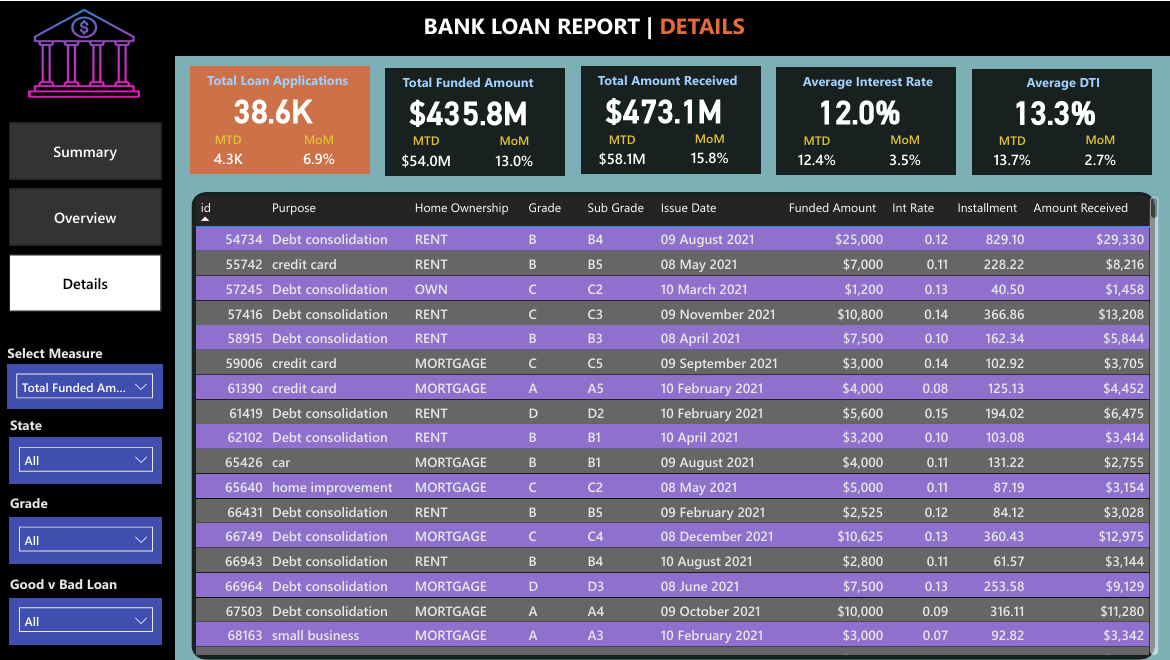

The dashboard page shown, as its layout file describes it:
{"tool":"powerbi","page":{"name":"Details","canvas":[1280,720],"ordinal":2},"visuals":[{"type":"shape","box":[0,0,1280.7,60],"z":0},{"type":"shape","box":[636.3,71,195.7,116.9],"z":0,"group":"g3"},{"type":"shape","box":[210.4,71.5,195.7,117.1],"z":0,"group":"g1"},{"type":"shape","box":[849.2,72,195.7,117.1],"z":0,"group":"g4"},{"type":"shape","box":[423.4,72.6,195.7,117],"z":0,"group":"g2"},{"type":"shape","box":[1062.2,74.5,195.7,115.6],"z":0,"group":"g5"},{"type":"card","fields":{"Values":["bank_loan_data.Total Amount Received"]},"box":[650.6,92,151.4,49.9],"z":1000,"group":"g3"},{"type":"card","fields":{"Values":["bank_loan_data.Total Loan Applications"]},"box":[224.7,92.5,151.4,50],"z":1000,"group":"g1"},{"type":"card","fields":{"Values":["bank_loan_data.Avg Interest Rate"]},"box":[863.5,93,151.4,50],"z":1000,"group":"g4"},{"type":"card","fields":{"Values":["bank_loan_data.Total Funded Amount"]},"box":[437.7,93.6,151.4,49.9],"z":1000,"group":"g2"},{"type":"card","fields":{"Values":["bank_loan_data.Avg DTI"]},"box":[1076.5,93.8,151.4,49.3],"z":1000,"group":"g5"},{"type":"shape","box":[210.9,208.1,1050.3,510],"z":1000},{"type":"shape","box":[0,53.6,192.5,667],"z":2000},{"type":"textbox","box":[649.2,71,172.9,35.6],"z":2000,"group":"g3"},{"type":"textbox","box":[223.3,71.5,172.9,35.7],"z":2000,"group":"g1"},{"type":"textbox","box":[862.1,72,172.9,35.7],"z":2000,"group":"g4"},{"type":"textbox","box":[436.3,72.6,172.9,35.7],"z":2000,"group":"g2"},{"type":"textbox","box":[1075.1,73.1,172.9,35.2],"z":2000,"group":"g5"},{"type":"textbox","box":[459.5,4.2,453.9,47.5],"z":3000},{"type":"card","title":"MTD","fields":{"Values":["bank_loan_data.MTD Loan Applications"]},"box":[221.8,141.1,60,42.9],"z":3000,"group":"g1"},{"type":"card","title":"MTD","fields":{"Values":["bank_loan_data.MTD Amount Received"]},"box":[647.7,141.2,67.1,46.8],"z":3000,"group":"g3"},{"type":"card","title":"MTD","fields":{"Values":["bank_loan_data.MTD Avg Interest Rate"]},"box":[860.6,142.2,65.7,46.8],"z":3000,"group":"g4"},{"type":"card","title":"MTD","fields":{"Values":["bank_loan_data.MTD Avg DTI"]},"box":[1073.6,142.4,65.7,46.2],"z":3000,"group":"g5"},{"type":"card","title":"MTD","fields":{"Values":["bank_loan_data.MTD Funded Amount"]},"box":[434.8,142.8,65.7,46.8],"z":3000,"group":"g2"},{"type":"group","id":"g1","title":"Group 1","box":[210.4,71.5,195.7,117.1],"z":4000},{"type":"card","title":"MoM","fields":{"Values":["bank_loan_data.MoM Amount Received"]},"box":[746.3,140.5,60,42.8],"z":4000,"group":"g3"},{"type":"card","title":"MoM","fields":{"Values":["bank_loan_data.MoM Avg Interest Rate"]},"box":[959.2,140.7,60,42.4],"z":4000,"group":"g4"},{"type":"card","title":"MoM","fields":{"Values":["bank_loan_data.MoM Avg DTI"]},"box":[1172.2,140.9,60,41.9],"z":4000,"group":"g5"},{"type":"card","title":"MoM","fields":{"Values":["bank_loan_data.MoM Loan Apllication"]},"box":[320.4,141.1,60,42.9],"z":4000,"group":"g1"},{"type":"card","title":"MoM","fields":{"Values":["bank_loan_data.MoM Funded Amount"]},"box":[533.4,141.3,60,42.4],"z":4000,"group":"g2"},{"type":"group","id":"g2","title":"Group 1","box":[423.4,72.6,195.7,117],"z":5000},{"type":"group","id":"g3","title":"Group 1","box":[636.3,71,195.7,117],"z":6000},{"type":"group","id":"g4","title":"Group 1","box":[849.2,72,195.7,117.1],"z":7000},{"type":"group","id":"g5","title":"Group 1","box":[1062.2,73.1,195.7,117.1],"z":8000},{"type":"slicer","fields":{"Values":["bank_loan_data.address_state"]},"box":[12.6,475.9,165.7,51.4],"z":9000},{"type":"textbox","box":[8.3,447.4,58.6,38.6],"z":10000},{"type":"slicer","fields":{"Values":["bank_loan_data.grade"]},"box":[12.6,563.1,165.7,51.4],"z":11000},{"type":"textbox","box":[8.3,531.6,70,38.6],"z":12000},{"type":"slicer","fields":{"Values":["bank_loan_data.Good v Bad Loan"]},"box":[12.6,651.2,165.7,51.4],"z":13000},{"type":"textbox","box":[8.1,620.4,159.2,37.7],"z":14000},{"type":"slicer","fields":{"Values":["Select Measure.Select Measure"]},"box":[9.7,396.1,168.6,48.6],"z":15000},{"type":"textbox","box":[5.4,367.5,122.9,38.6],"z":16000},{"type":"tableEx","fields":{"Values":["bank_loan_data.id","bank_loan_data.purpose","bank_loan_data.home_ownership","bank_loan_data.grade","bank_loan_data.sub_grade","bank_loan_data.issue_date","bank_loan_data.Total Funded Amount","Sum(bank_loan_data.int_rate)","Sum(bank_loan_data.installment)","bank_loan_data.Total Amount Received"]},"box":[210.4,207.7,1060.3,510.2],"z":17000},{"type":"pageNavigator","box":[12.4,132,166.4,207.7],"z":18000},{"type":"image","box":[27.5,1.4,132,111.4],"z":18001}]}

Visuals, with their boxes in screenshot pixels (x1, y1, x2, y2), scaled from the page's 1280x720 canvas onto the 1170x660 screenshot:
shape: left=0, top=0, right=1169, bottom=55
shape: left=582, top=65, right=760, bottom=172
shape: left=192, top=66, right=371, bottom=173
shape: left=776, top=66, right=955, bottom=173
shape: left=387, top=67, right=566, bottom=174
shape: left=971, top=68, right=1150, bottom=174
card - bank_loan_data.Total Amount Received: left=595, top=84, right=733, bottom=130
card - bank_loan_data.Total Loan Applications: left=205, top=85, right=344, bottom=131
card - bank_loan_data.Avg Interest Rate: left=789, top=85, right=928, bottom=131
card - bank_loan_data.Total Funded Amount: left=400, top=86, right=538, bottom=132
card - bank_loan_data.Avg DTI: left=984, top=86, right=1122, bottom=131
shape: left=193, top=191, right=1153, bottom=658
shape: left=0, top=49, right=176, bottom=659
textbox: left=593, top=65, right=751, bottom=98
textbox: left=204, top=66, right=362, bottom=98
textbox: left=788, top=66, right=946, bottom=99
textbox: left=399, top=67, right=557, bottom=99
textbox: left=983, top=67, right=1141, bottom=99
textbox: left=420, top=4, right=835, bottom=47
"MTD" card: left=203, top=129, right=258, bottom=169
"MTD" card: left=592, top=129, right=653, bottom=172
"MTD" card: left=787, top=130, right=847, bottom=173
"MTD" card: left=981, top=131, right=1041, bottom=173
"MTD" card: left=397, top=131, right=457, bottom=174
"Group 1" group: left=192, top=66, right=371, bottom=173
"MoM" card: left=682, top=129, right=737, bottom=168
"MoM" card: left=877, top=129, right=932, bottom=168
"MoM" card: left=1071, top=129, right=1126, bottom=168
"MoM" card: left=293, top=129, right=348, bottom=169
"MoM" card: left=488, top=130, right=542, bottom=168
"Group 1" group: left=387, top=67, right=566, bottom=174
"Group 1" group: left=582, top=65, right=760, bottom=172
"Group 1" group: left=776, top=66, right=955, bottom=173
"Group 1" group: left=971, top=67, right=1150, bottom=174
slicer - bank_loan_data.address_state: left=12, top=436, right=163, bottom=483
textbox: left=8, top=410, right=61, bottom=446
slicer - bank_loan_data.grade: left=12, top=516, right=163, bottom=563
textbox: left=8, top=487, right=72, bottom=523
slicer - bank_loan_data.Good v Bad Loan: left=12, top=597, right=163, bottom=644
textbox: left=7, top=569, right=153, bottom=603
slicer - Select Measure.Select Measure: left=9, top=363, right=163, bottom=408
textbox: left=5, top=337, right=117, bottom=372
tableEx - bank_loan_data.id x bank_loan_data.purpose: left=192, top=190, right=1161, bottom=658
pageNavigator: left=11, top=121, right=163, bottom=311
image: left=25, top=1, right=146, bottom=103
